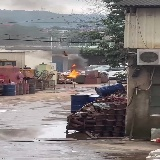fire: (66, 64, 78, 77)
